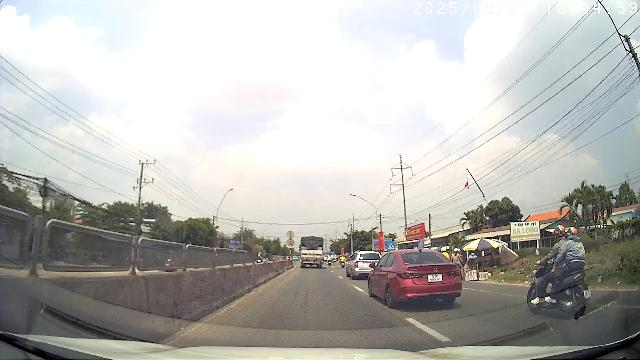423a-duong-nguoi-di-bo-sang-ngang-1: (387, 241, 395, 250)
